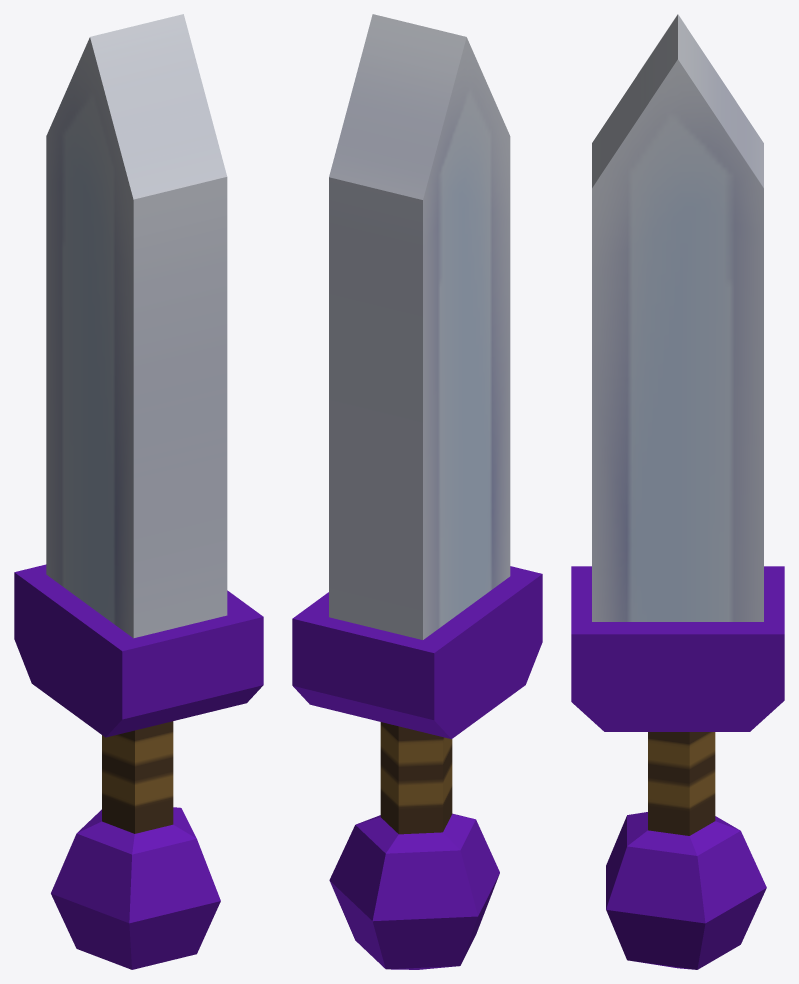
File: sword.fbx
The picture shows the model from 3 angles, left to right: view 1: azimuth 30°, elevation 25°; view 2: azimuth 150°, elevation 25°; view 3: azimuth 270°, elevation 25°; orthographic projection.
Visible parts, largest first — view 1: Cube, hilt2, Base, hilt; view 2: Cube, hilt2, Base, hilt; view 3: Cube, hilt2, Base, hilt.
Boxes of the visible parts, x1=… form: Cube: x1=46, y1=14, x2=227, y2=638; hilt2: x1=14, y1=564, x2=263, y2=737; Base: x1=51, y1=807, x2=220, y2=969; hilt: x1=102, y1=721, x2=173, y2=833; Cube: x1=329, y1=14, x2=510, y2=639; hilt2: x1=292, y1=566, x2=542, y2=739; Base: x1=329, y1=813, x2=499, y2=969; hilt: x1=380, y1=722, x2=452, y2=834; Cube: x1=592, y1=14, x2=763, y2=621; hilt2: x1=571, y1=566, x2=784, y2=731; Base: x1=606, y1=812, x2=766, y2=969; hilt: x1=648, y1=732, x2=715, y2=835.
Bounding box in the file's own units: 63.26 × 384 × 79.85.
Materials: 3 (2 with a texture image).
